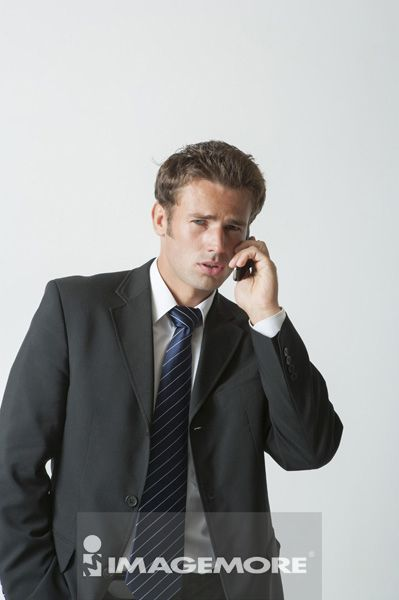talk: (183, 203, 282, 322)
